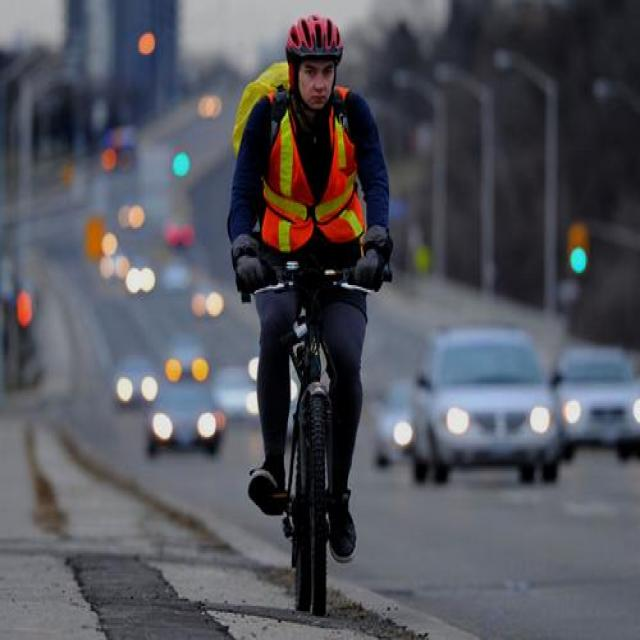bikerider: (218, 7, 384, 630)
